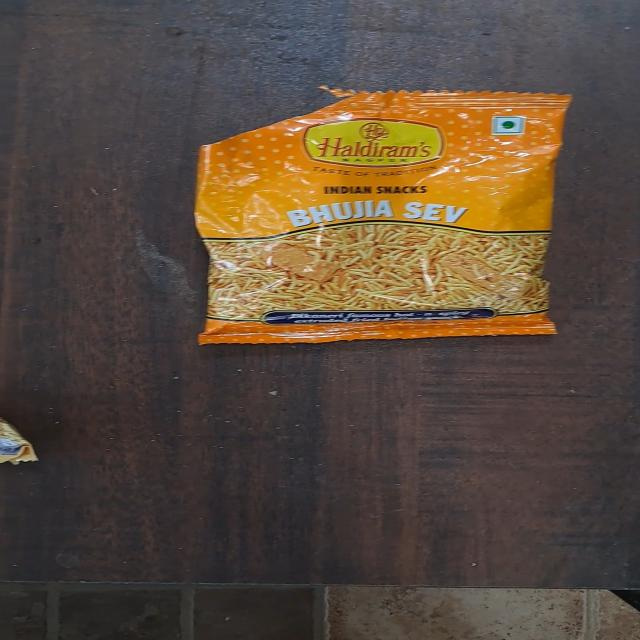Anorganik: (193, 92, 566, 348)
